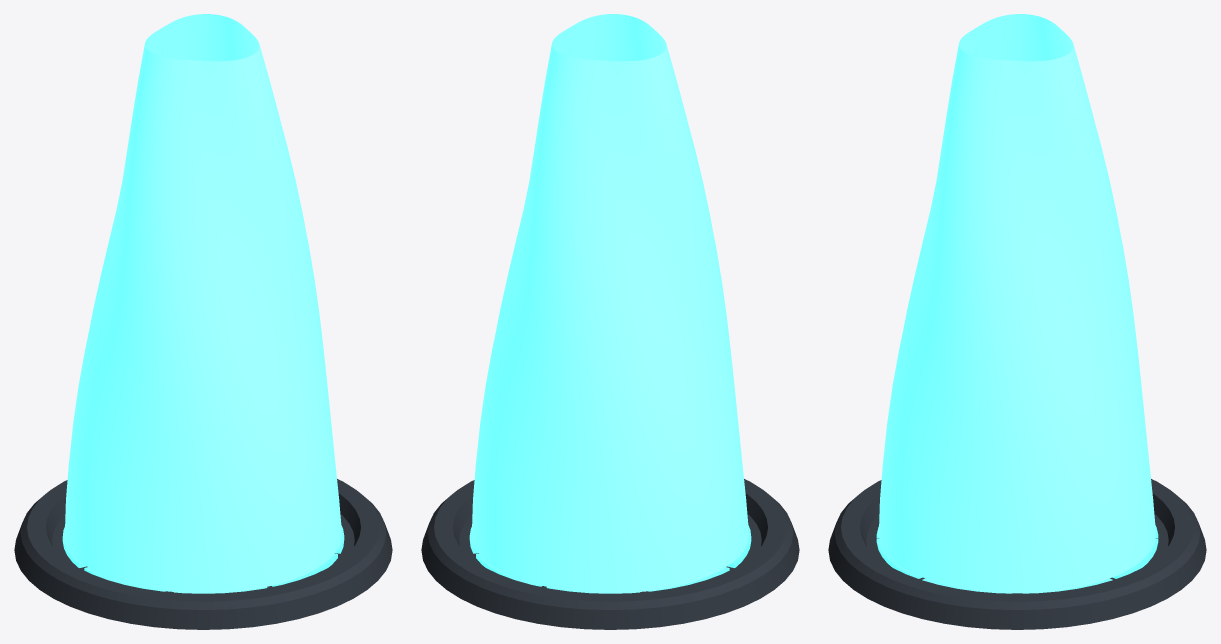
The model's file is teleporter.gltf.
The picture shows the model from 3 angles, left to right: view 1: azimuth 30°, elevation 25°; view 2: azimuth 150°, elevation 25°; view 3: azimuth 270°, elevation 25°; orthographic projection.
Visible parts, largest first — view 1: Beam, Pad, Glow; view 2: Beam, Pad, Glow; view 3: Beam, Pad, Glow.
Boxes of the visible parts, box(x1,y1,x2,y2) form: Beam: box(64, 14, 341, 593); Pad: box(14, 479, 392, 629); Glow: box(62, 525, 344, 593); Beam: box(471, 14, 748, 593); Pad: box(421, 479, 799, 629); Glow: box(469, 525, 751, 593); Beam: box(878, 14, 1155, 593); Pad: box(828, 479, 1206, 629); Glow: box(876, 525, 1158, 593).
Size of the model in its own units: 1.8 by 2.68 by 1.8.
